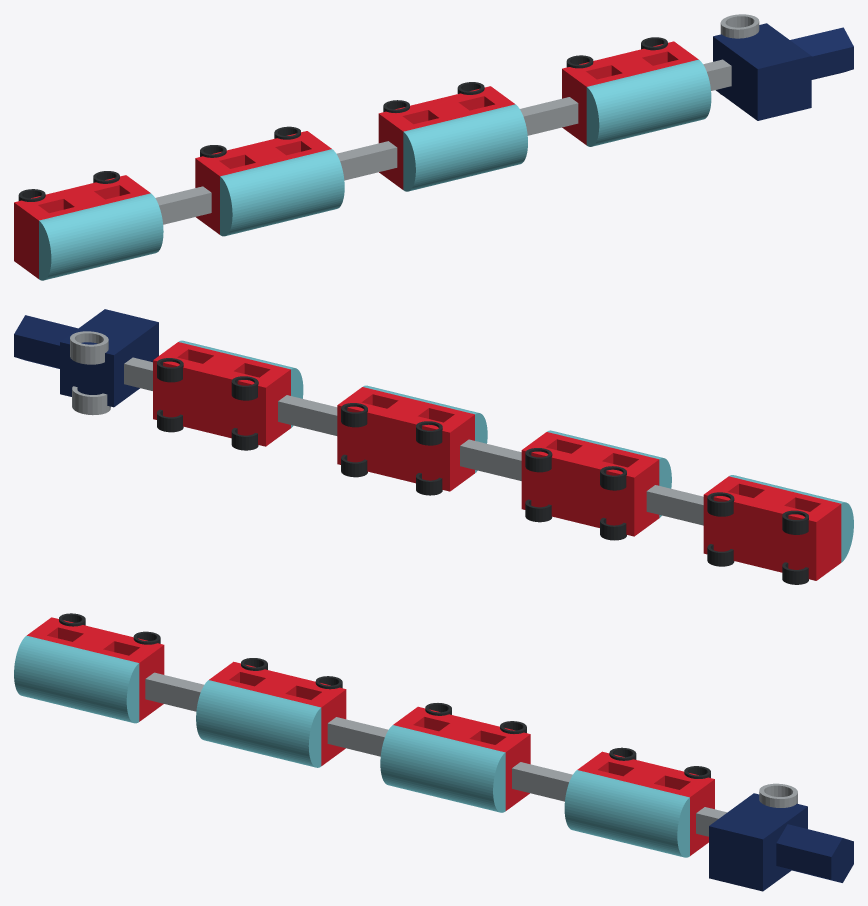
Rendered from tinker.obj.
The picture shows the model from 3 angles, top to bottom: view 1: azimuth 30°, elevation 25°; view 2: azimuth 150°, elevation 25°; view 3: azimuth 330°, elevation 25°; orthographic projection.
Visible parts, largest first — view 1: group_0_7720667, group_0_15277357, group_0_1650274, group_0_10988977, group_0_2829873; view 2: group_0_15277357, group_0_2829873, group_0_10988977, group_0_1650274, group_0_7720667; view 3: group_0_7720667, group_0_15277357, group_0_1650274, group_0_10988977, group_0_2829873.
Boxes of the visible parts, <box> form: group_0_7720667: <box>39,59,711,280</box>; group_0_15277357: <box>14,41,698,278</box>; group_0_1650274: <box>713,23,853,120</box>; group_0_10988977: <box>155,14,759,224</box>; group_0_2829873: <box>18,37,667,201</box>; group_0_15277357: <box>153,342,841,580</box>; group_0_2829873: <box>157,358,808,584</box>; group_0_10988977: <box>70,331,703,525</box>; group_0_1650274: <box>14,309,158,407</box>; group_0_7720667: <box>178,340,853,562</box>; group_0_7720667: <box>14,635,689,857</box>; group_0_15277357: <box>27,617,714,855</box>; group_0_1650274: <box>709,793,853,891</box>; group_0_10988977: <box>145,672,797,836</box>; group_0_2829873: <box>59,613,710,778</box>.
Size of the model in its own units: 375 by 30 by 42.
